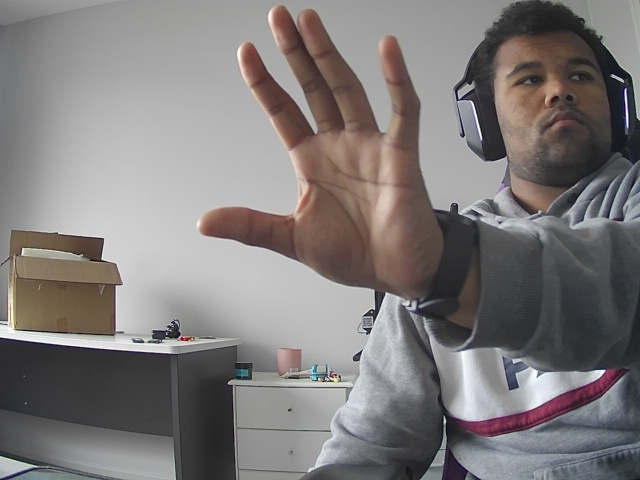Hello: (186, 1, 461, 311)
